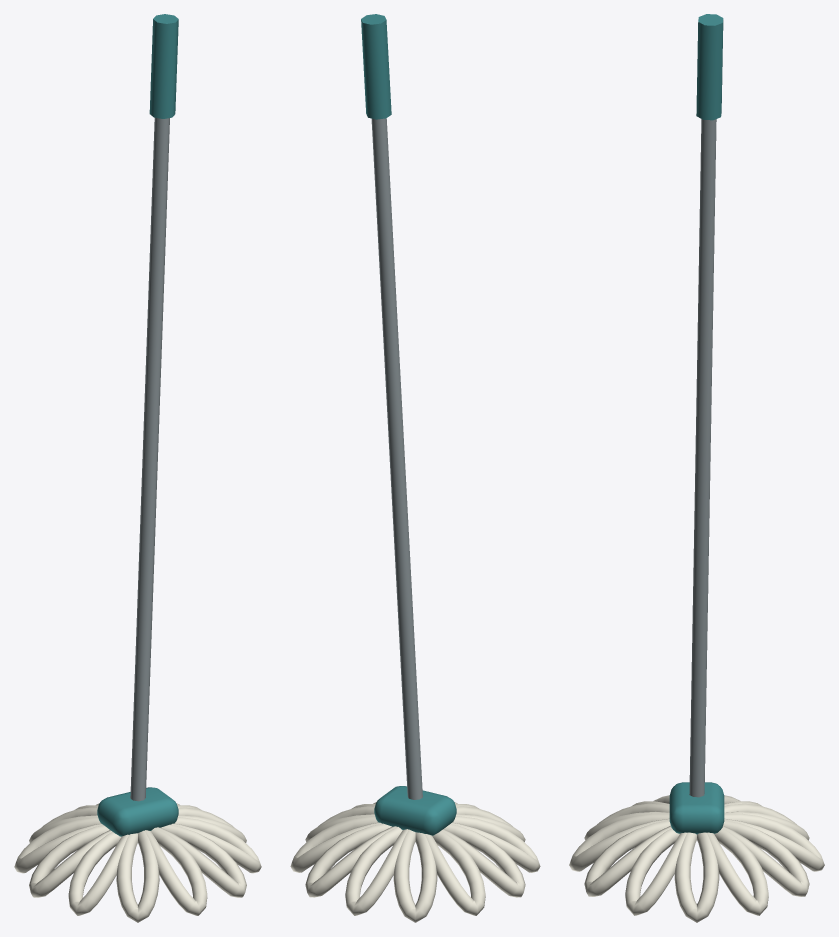
Rendered from HotelTogether-Mop.glb.
The picture shows the model from 3 angles, left to right: view 1: azimuth 30°, elevation 25°; view 2: azimuth 150°, elevation 25°; view 3: azimuth 270°, elevation 25°; orthographic projection. The views are drawn at different scales.
Visible parts, largest first — view 1: Mop_Shaft, Mop_Head, Mop_Grip, Mop_CottonLoop.009, Mop_CottonLoop.008, Mop_CottonLoop.007, Mop_CottonLoop.010, Mop_CottonLoop.006, Mop_CottonLoop.011, Mop_CottonLoop.005, Mop_CottonLoop, Mop_CottonLoop.004; view 2: Mop_Shaft, Mop_Head, Mop_Grip, Mop_CottonLoop.003, Mop_CottonLoop.004, Mop_CottonLoop.005, Mop_CottonLoop.002, Mop_CottonLoop.006, Mop_CottonLoop.001, Mop_CottonLoop.007, Mop_CottonLoop, Mop_CottonLoop.008; view 3: Mop_Shaft, Mop_Grip, Mop_CottonLoop, Mop_CottonLoop.001, Mop_CottonLoop.011, Mop_CottonLoop.002, Mop_CottonLoop.010, Mop_Head, Mop_CottonLoop.003, Mop_CottonLoop.009, Mop_CottonLoop.004, Mop_CottonLoop.008.
Boxes of the visible parts, x1,y1,x2,y2 form: Mop_Shaft: (130,118,169,801); Mop_Head: (97,787,178,836); Mop_Grip: (149,14,178,118); Mop_CottonLoop.009: (145,827,207,915); Mop_CottonLoop.008: (116,830,159,922); Mop_CottonLoop.007: (68,832,128,915); Mop_CottonLoop.010: (156,824,246,897); Mop_CottonLoop.006: (29,825,112,897); Mop_CottonLoop.011: (171,817,261,873); Mop_CottonLoop.005: (14,817,102,873); Mop_CottonLoop: (178,807,246,842); Mop_CottonLoop.004: (29,807,97,842); Mop_Shaft: (371,118,422,799); Mop_Head: (374,786,456,835); Mop_Grip: (361,14,391,119); Mop_CottonLoop.003: (345,827,408,915); Mop_CottonLoop.004: (393,829,437,922); Mop_CottonLoop.005: (424,831,485,915); Mop_CottonLoop.002: (305,823,396,897); Mop_CottonLoop.006: (441,824,525,897); Mop_CottonLoop.001: (290,816,381,872); Mop_CottonLoop.007: (451,816,540,872); Mop_CottonLoop: (305,806,374,841); Mop_CottonLoop.008: (456,806,525,841); Mop_Shaft: (689,119,716,797); Mop_Grip: (696,14,723,120); Mop_CottonLoop: (674,832,719,922); Mop_CottonLoop.001: (707,828,768,915); Mop_CottonLoop.011: (625,828,686,915); Mop_CottonLoop.002: (722,820,809,896); Mop_CottonLoop.010: (584,820,671,896); Mop_Head: (669,782,724,834); Mop_CottonLoop.003: (724,813,824,871); Mop_CottonLoop.009: (569,813,669,871); Mop_CottonLoop.004: (724,803,809,840); Mop_CottonLoop.008: (584,803,669,840).
Size of the model in its own units: 0.3839 by 1.44 by 0.3839.
